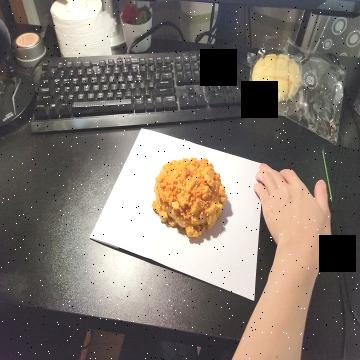soboru_bread: (152, 158, 228, 244)
